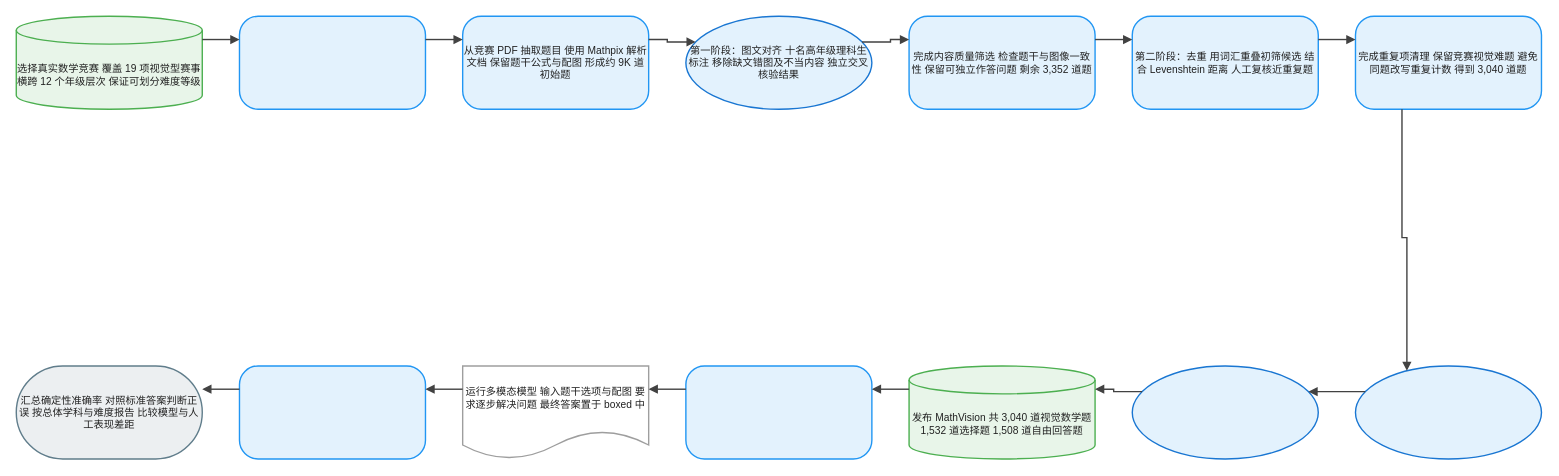
Some shapes in this 1559 by 476 pixel diagram are drawn without their labels. Each missing label, with the box of its shape:
控制授权与污染风险 遵守版权及许可要求 优先答案不易直接检索题 分离问题与答案来源页: (238, 15, 426, 110)
第三阶段：学科标注 三组标注者独立分类 GPT-4V 与 Gemini Pro 辅助 聚合为 16 个数学学科: (1354, 365, 1542, 459)
第四阶段：难度标注 结合竞赛来源与年级 划分一至五级难度 由人工专家统一核验: (1131, 365, 1319, 459)
规范化模型最终答案 解析 boxed 与常见答案短语 兼容选项字母或选项文本 使用数学等价性判定: (238, 365, 426, 459)
选择评测数据范围 完整测试集使用 3,040 题 轻量 testmini 使用 304 题 支持高成本模型与人工对比: (685, 365, 872, 459)
